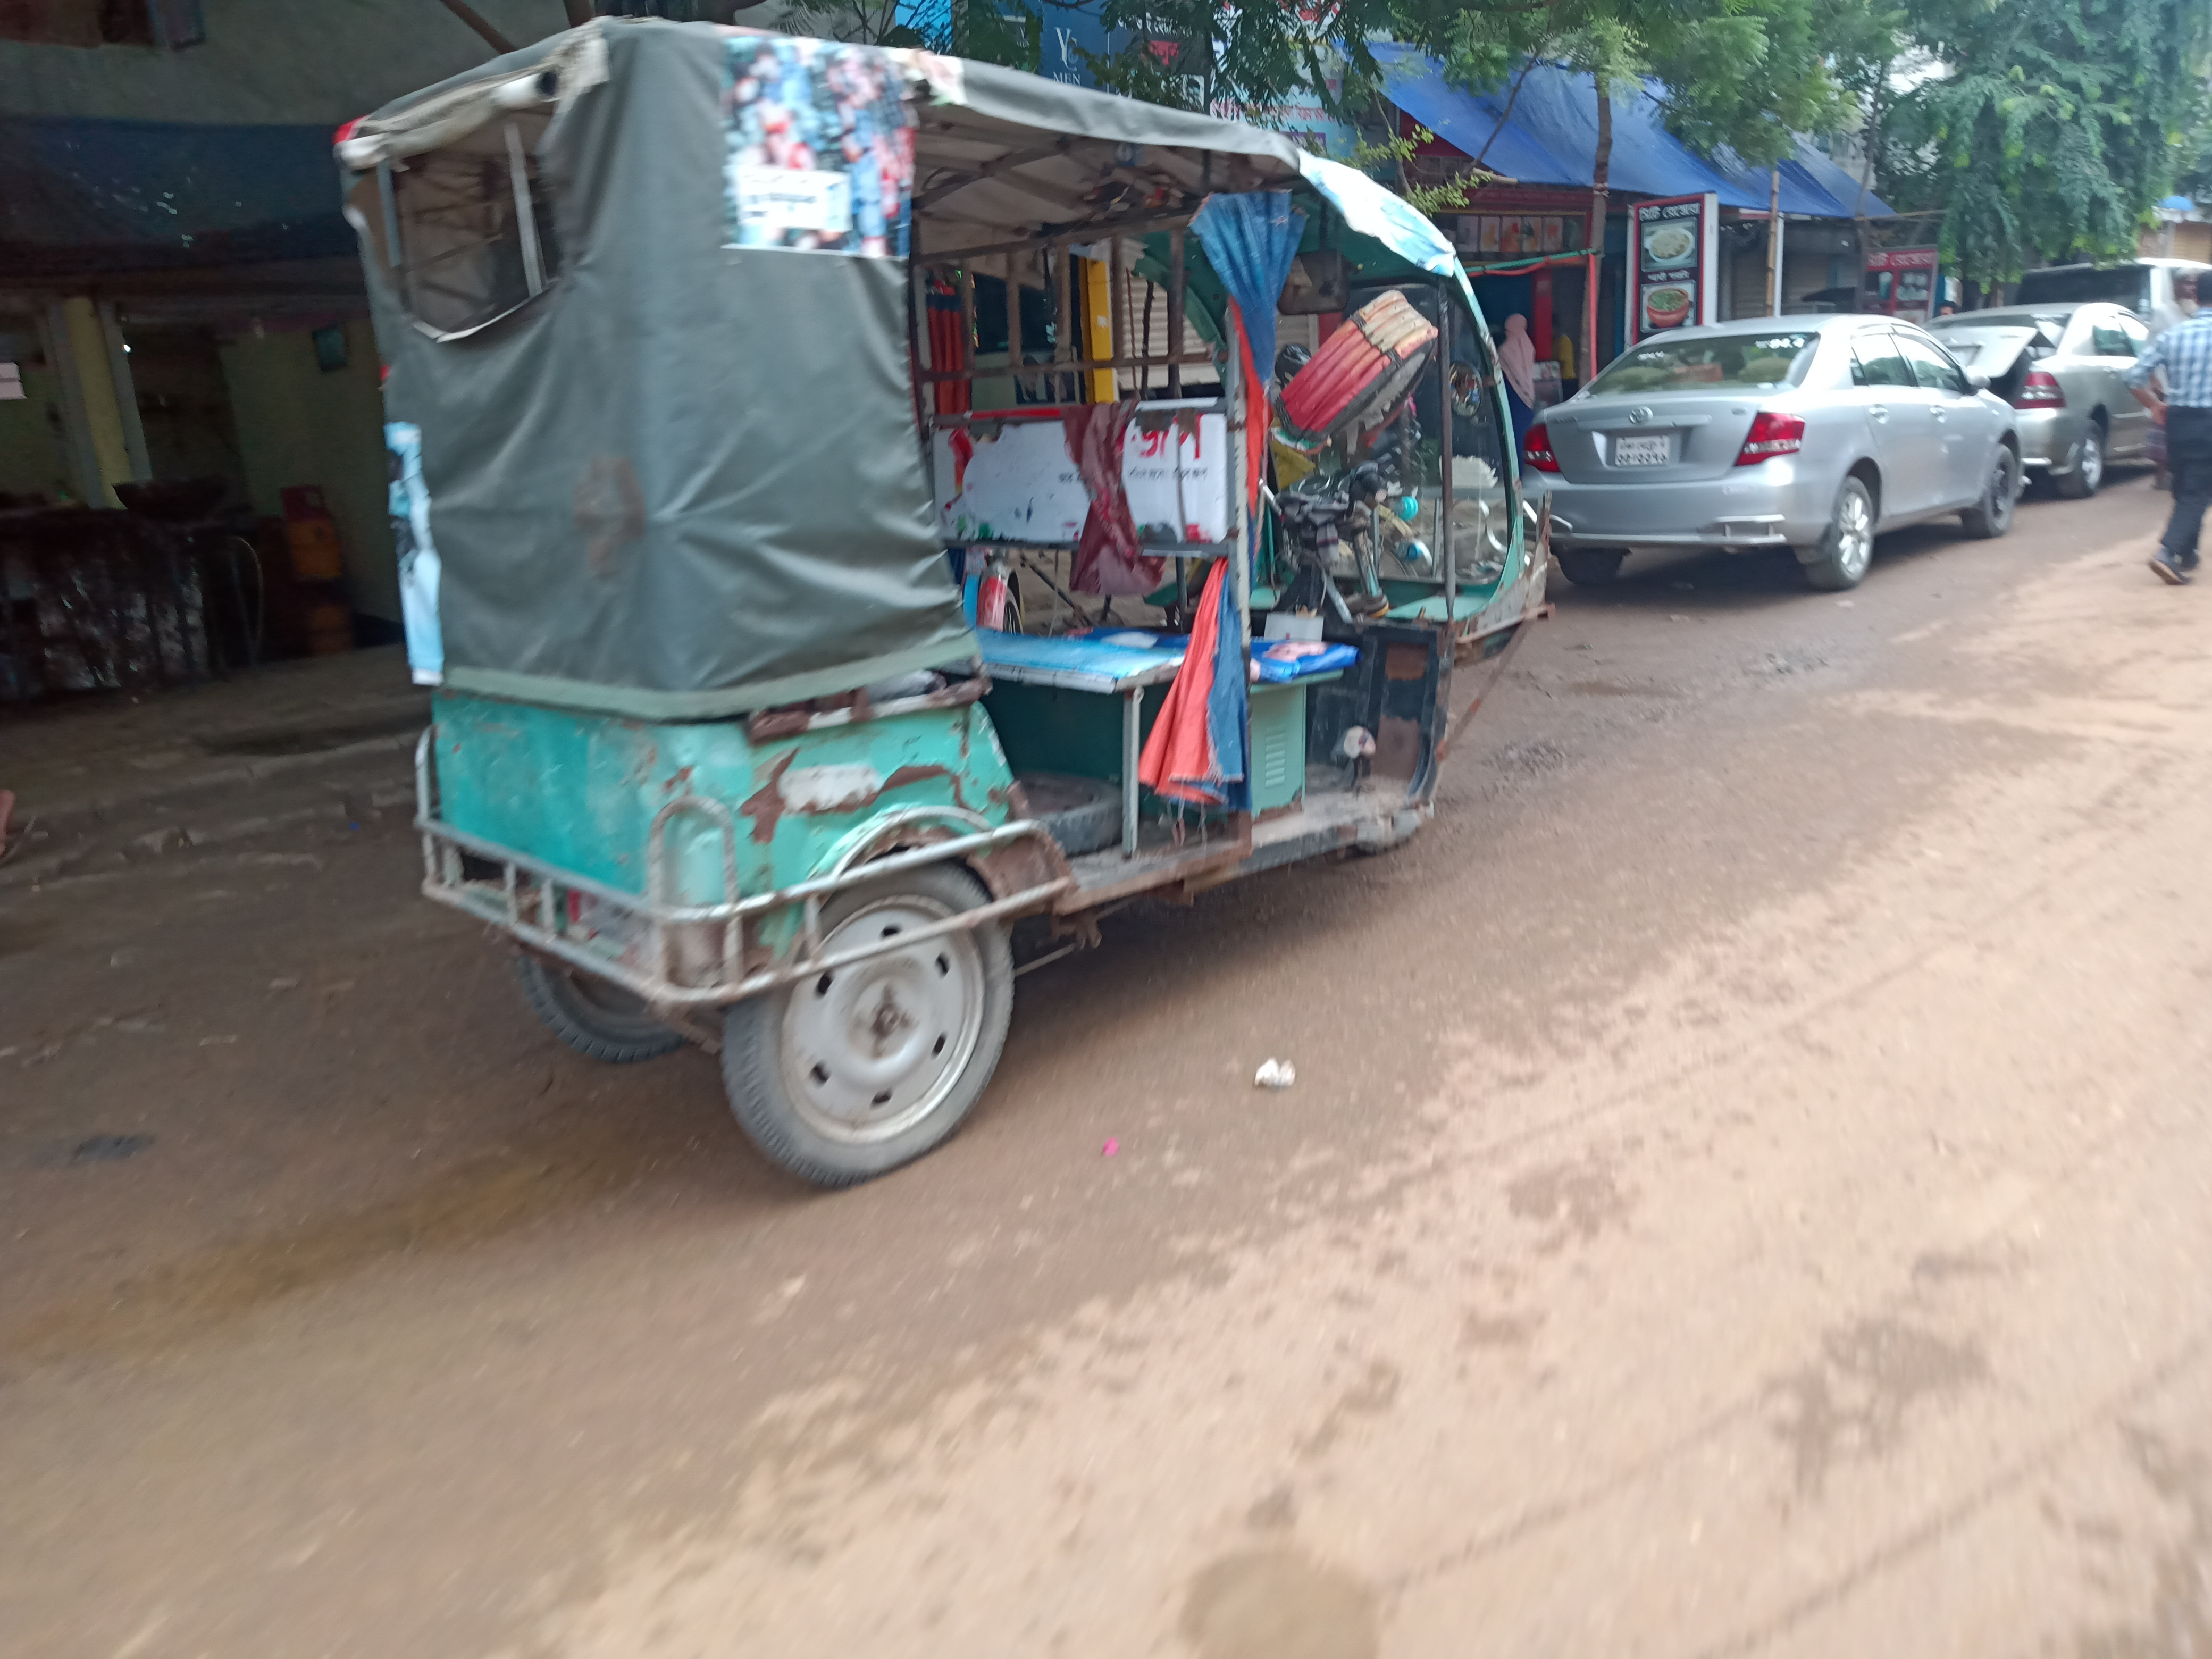car: (1515, 307, 2020, 580), (1984, 293, 2165, 495)
easybike: (324, 23, 1552, 1190)
